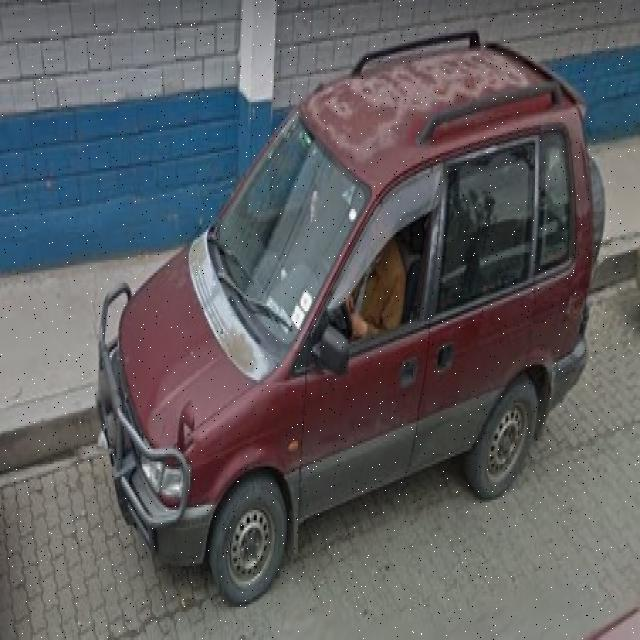cars: (92, 41, 605, 596)
